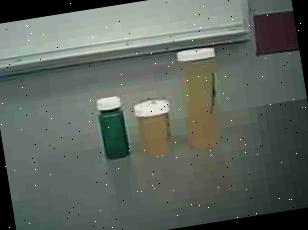Bottle A: (171, 40, 236, 154)
Bottle B: (130, 92, 180, 158)
Bottle C: (88, 89, 136, 167)
